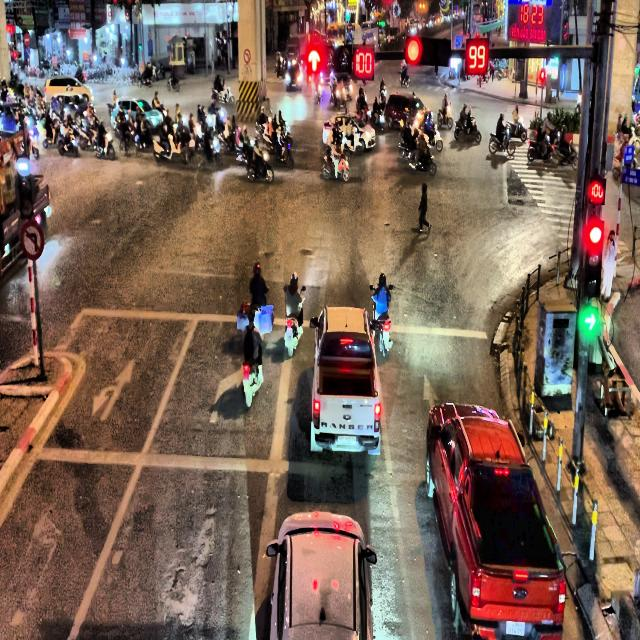CAR: (426, 402, 566, 640), (266, 510, 376, 640), (309, 305, 382, 456), (322, 113, 376, 154), (109, 98, 164, 134), (384, 93, 432, 130)
MOTORBIKE: (369, 284, 393, 358), (398, 140, 436, 176), (322, 148, 350, 182), (488, 125, 516, 157), (246, 151, 274, 183), (551, 138, 578, 168), (528, 131, 554, 162), (454, 115, 481, 144), (198, 135, 222, 167), (58, 126, 79, 156), (94, 132, 115, 160), (423, 123, 443, 152), (504, 117, 526, 143), (42, 119, 61, 148), (437, 104, 452, 130), (314, 82, 324, 104), (398, 69, 410, 87), (167, 76, 180, 92), (476, 71, 489, 87), (138, 72, 152, 86), (496, 66, 509, 79)
